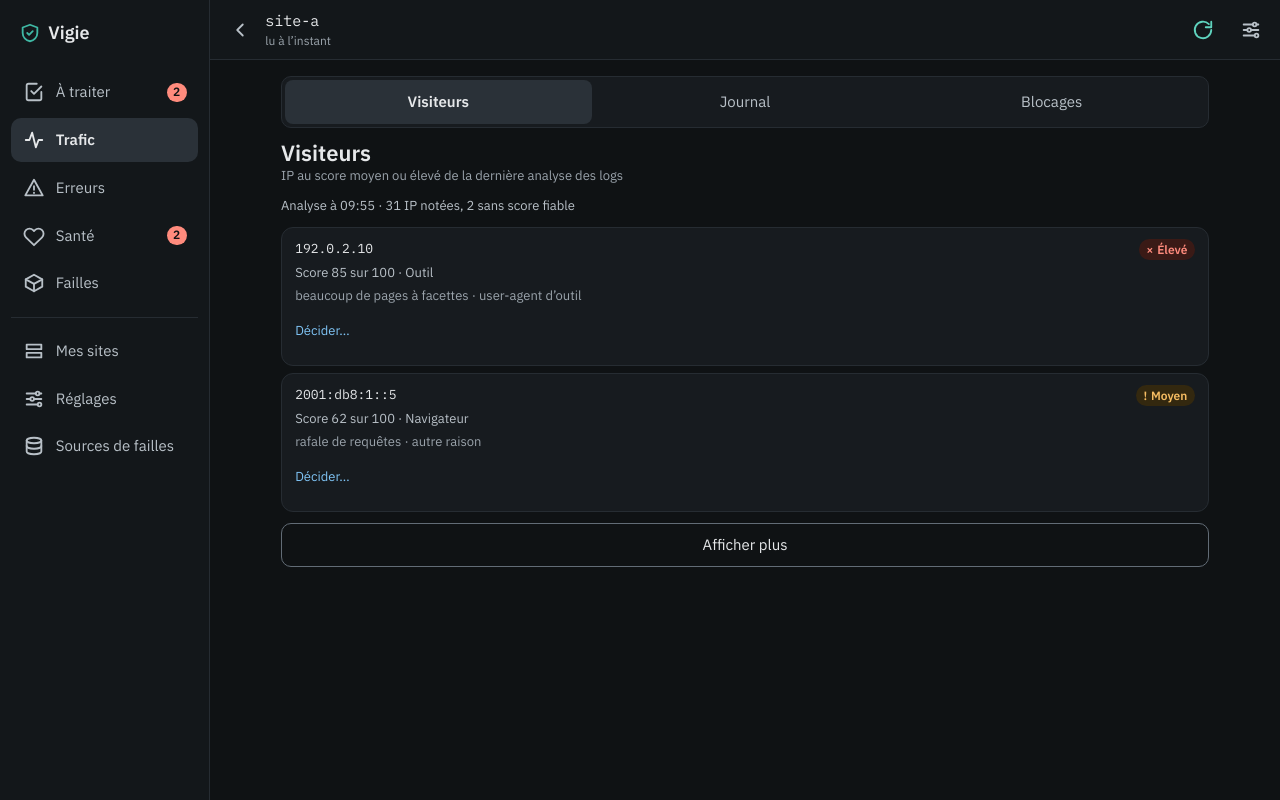
Test: Trafic › Visiteurs : verdicts d’IP, « Afficher plus » et propositions sans écriture
Check: the heading "Visiteurs" is shown, box [281, 138, 371, 167]
Check: the text "Analyse à 09:55 · 31 IP notées, 2 sans score fiable" is shown, box [281, 197, 575, 214]
Click the button "Afficher plus": (745,545) [281, 523, 1209, 567]
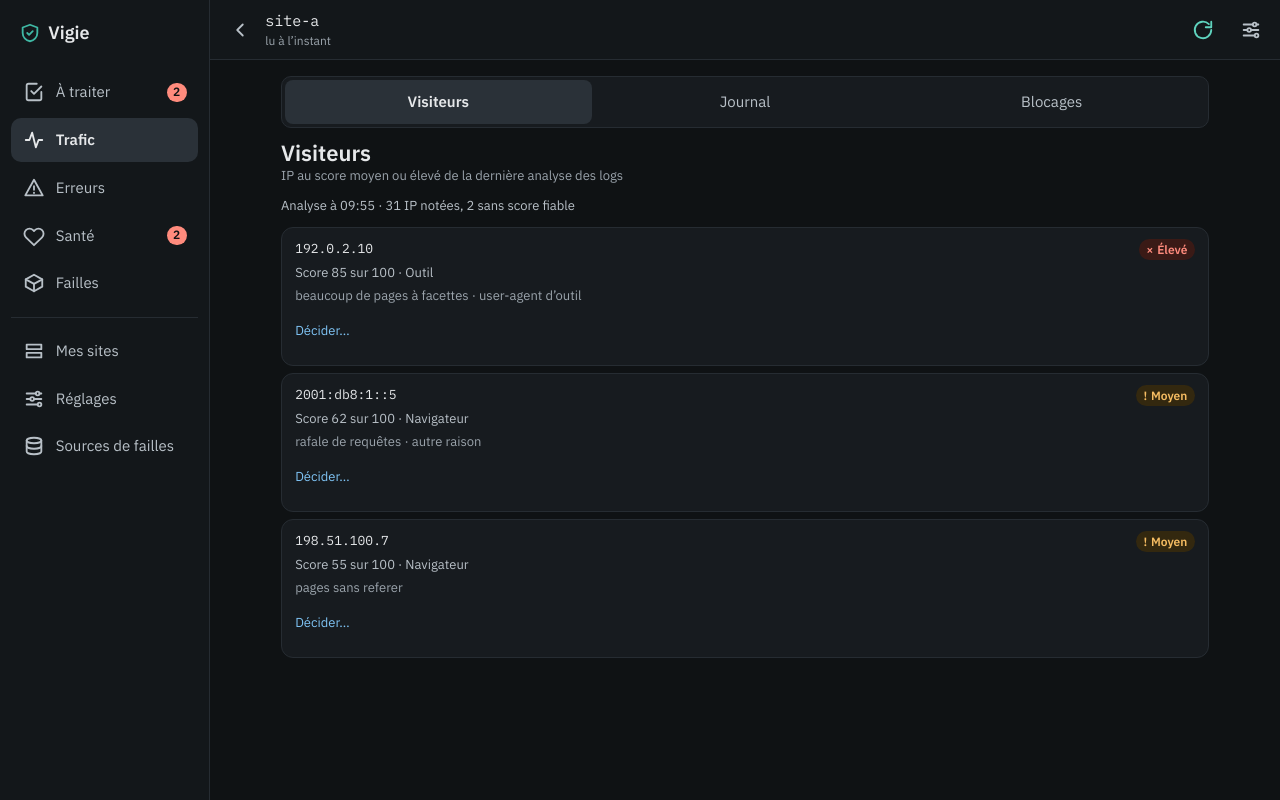
Check: the number of list items is 3, box [281, 227, 1209, 366]; [281, 373, 1209, 512]; [281, 519, 1209, 658]
Check: the list item that starts with "Moyen" shows "198.51.100.7", box [295, 532, 389, 550]
